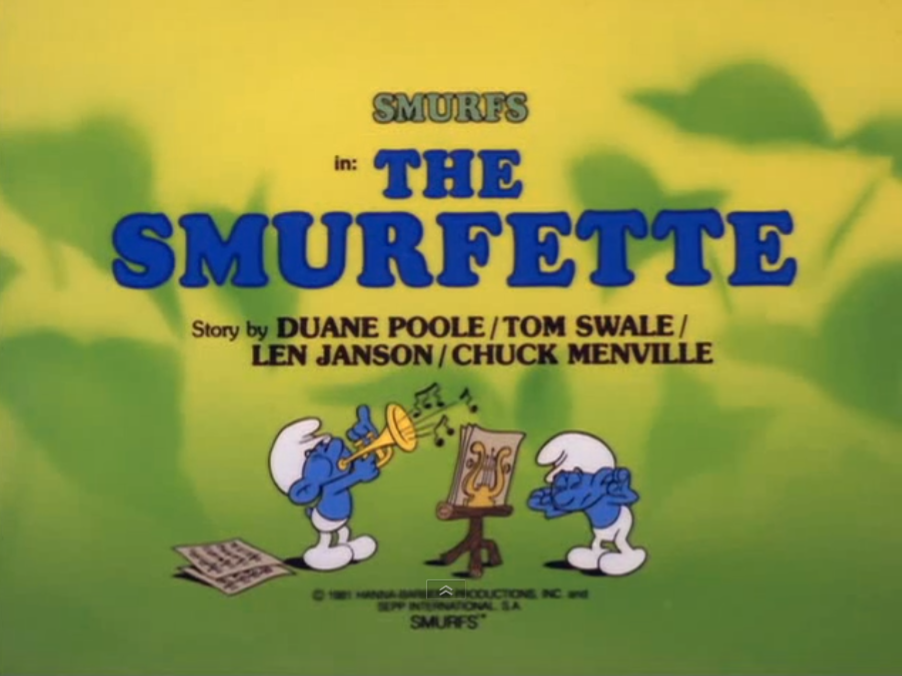smurf: (261, 414, 397, 573), (522, 428, 650, 578)
